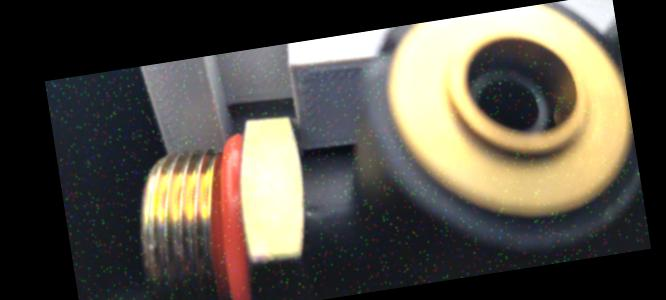bump: (371, 34, 400, 65)
joint line: (323, 196, 356, 212)
white mark: (303, 206, 324, 224)
